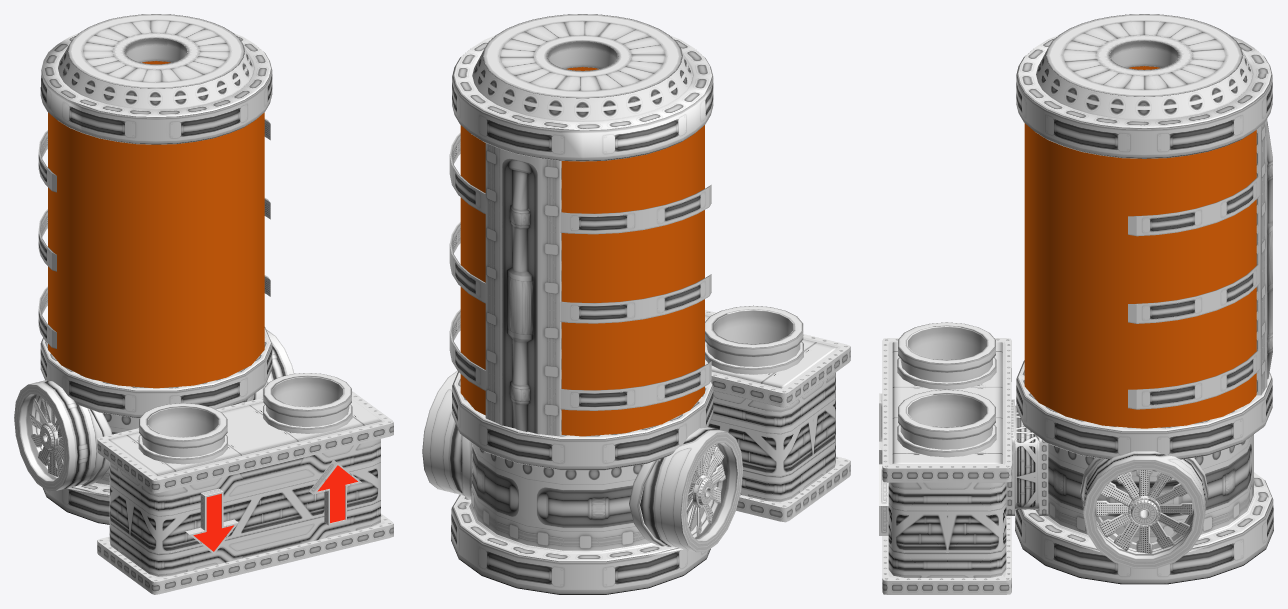
The model's file is Dryer V3.FBX.
The picture shows the model from 3 angles, left to right: view 1: azimuth 30°, elevation 25°; view 2: azimuth 150°, elevation 25°; view 3: azimuth 270°, elevation 25°; orthographic projection. The views are drawn at different scales.
Parts seen in each view (by area): view 1: Dryer_Body, Dryer_Glass, Fan_L; view 2: Dryer_Body, Dryer_Glass, Fan_L; view 3: Dryer_Body, Dryer_Glass, Fan_R.
Part boxes in pixels (<box>): Dryer_Body: <box>14,14,393,594</box>; Dryer_Glass: <box>48,61,264,388</box>; Fan_L: <box>29,397,64,476</box>; Dryer_Body: <box>422,14,850,594</box>; Dryer_Glass: <box>460,67,704,436</box>; Fan_L: <box>686,444,725,536</box>; Dryer_Body: <box>879,14,1273,594</box>; Dryer_Glass: <box>1024,66,1256,428</box>; Fan_R: <box>1095,470,1193,553</box>.
Bounding box in the file's own units: 119 × 209 × 153.
